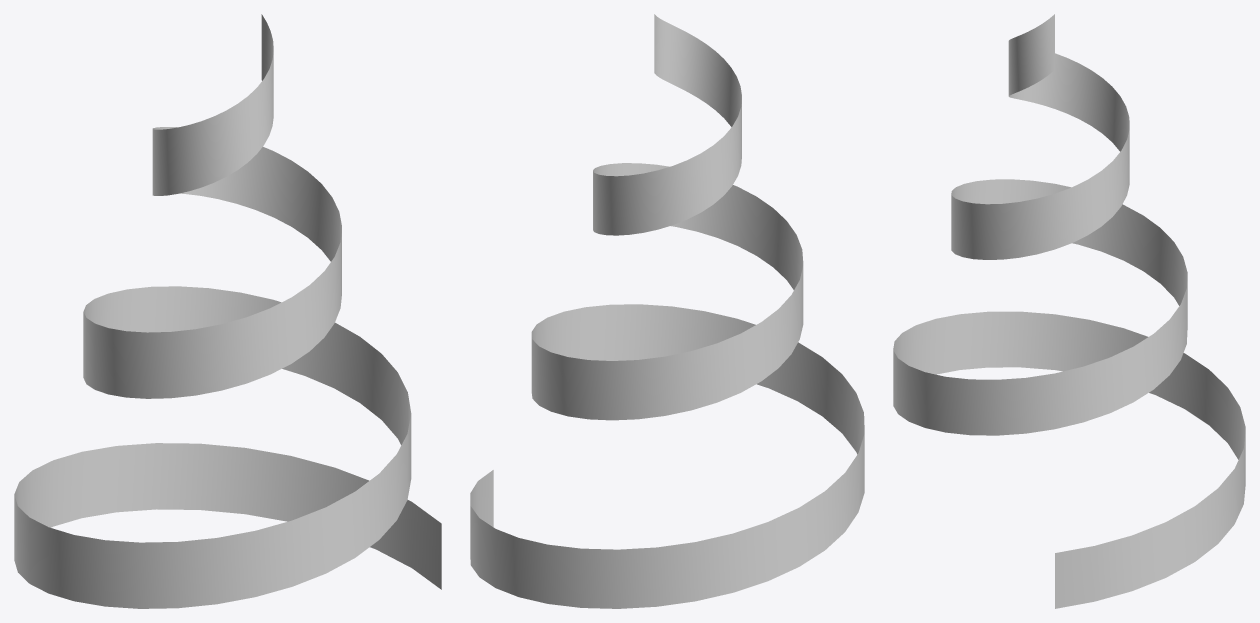
The model's file is HO_VFX_SpiralCone.fbx.
3 renders of one model, left to right at view 1: azimuth 30°, elevation 25°; view 2: azimuth 150°, elevation 25°; view 3: azimuth 270°, elevation 25°, orthographic. The views are drawn at different scales.
Parts seen in each view (by area): view 1: HO_VFX_SpiralCone; view 2: HO_VFX_SpiralCone; view 3: HO_VFX_SpiralCone.
Part boxes in pixels (bbox=[...]): HO_VFX_SpiralCone: bbox=[14, 14, 441, 608]; HO_VFX_SpiralCone: bbox=[470, 14, 864, 608]; HO_VFX_SpiralCone: bbox=[893, 14, 1245, 608].
Size of the model in its own units: 7.43 by 11.2 by 6.87.
